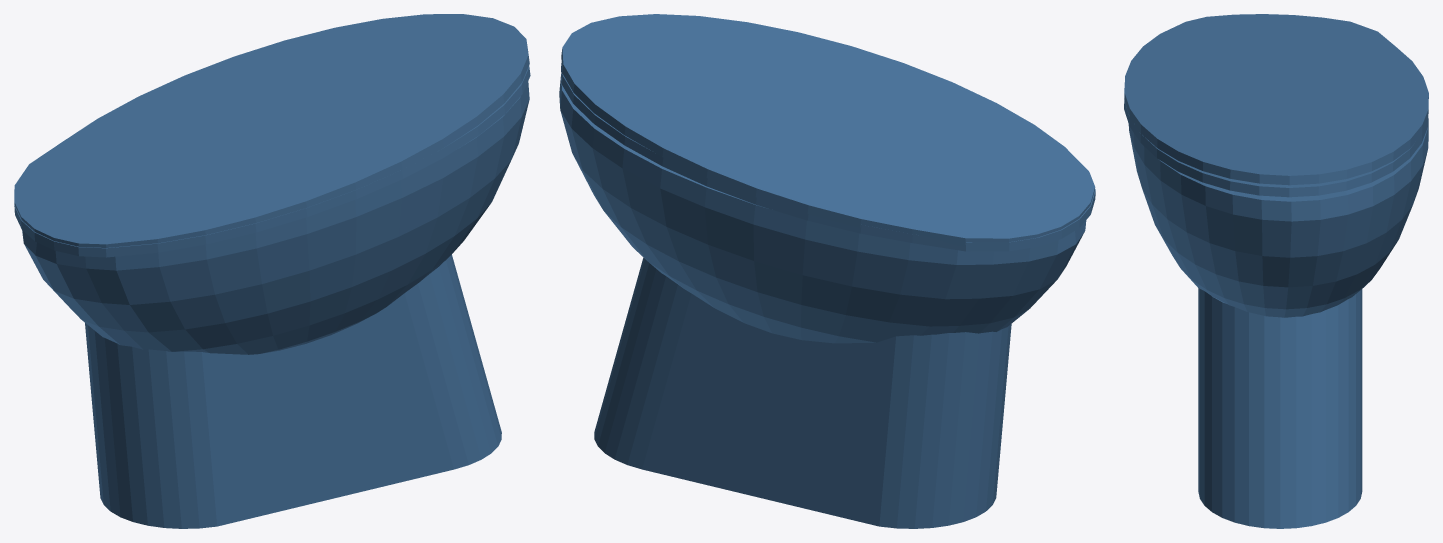
Rendered from sanicompact.glb.
3 renders of one model, left to right at view 1: azimuth 30°, elevation 25°; view 2: azimuth 150°, elevation 25°; view 3: azimuth 270°, elevation 25°, orthographic. The views are drawn at different scales.
Visible parts, largest first — view 1: Product7; view 2: Product7; view 3: Product7.
Part boxes in pixels (bbox=[...]): Product7: bbox=[14, 14, 530, 528]; Product7: bbox=[559, 14, 1095, 528]; Product7: bbox=[1124, 14, 1428, 528].
Size of the model in its own units: 4.69 by 3.45 by 2.6.
